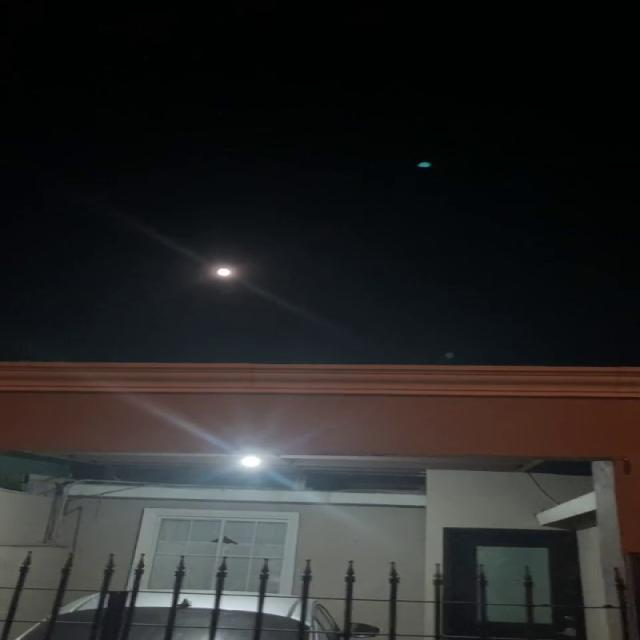moon: (211, 262, 239, 283)
